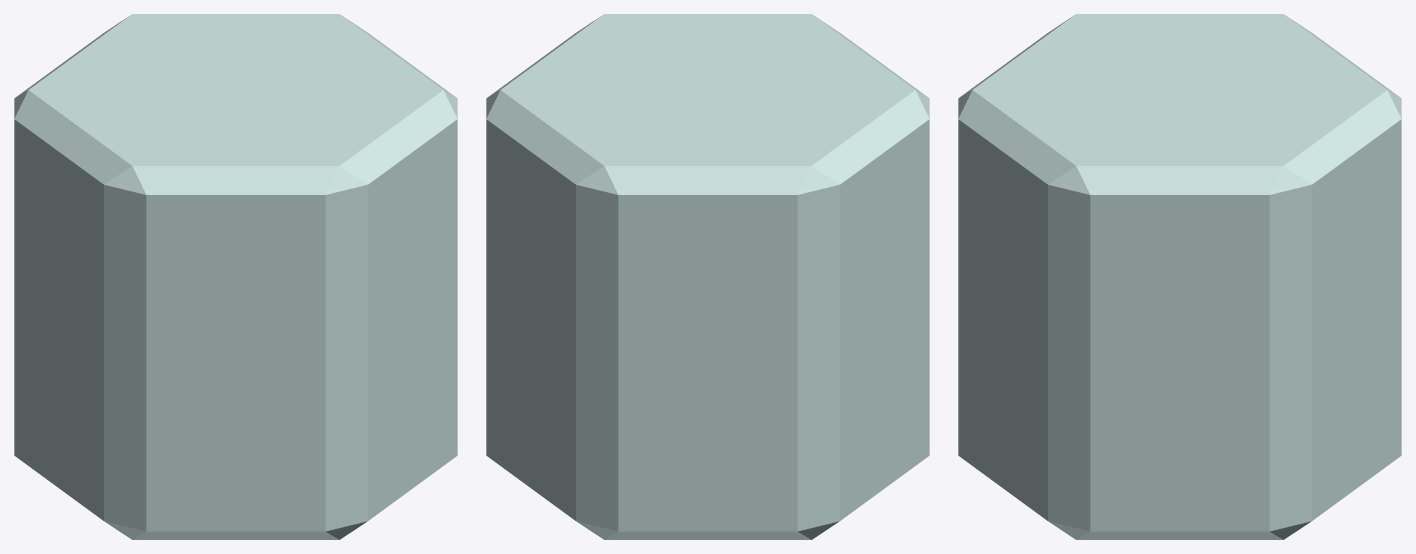
File: marshmallow.fbx
3 views of the same model, side by side, from view 1: azimuth 30°, elevation 25°; view 2: azimuth 150°, elevation 25°; view 3: azimuth 270°, elevation 25° (orthographic).
Visible parts, largest first — view 1: pianka; view 2: pianka; view 3: pianka.
Part boxes in pixels (<box>): pianka: <box>14,14,457,539</box>; pianka: <box>486,14,929,539</box>; pianka: <box>958,14,1401,539</box>.
Size of the model in its own units: 3.46 by 3.5 by 3.76.
